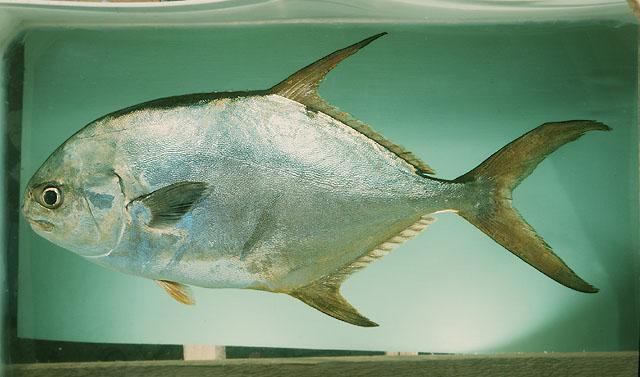Mulut: (9, 195, 75, 261)
Sirip Anal: (338, 206, 438, 282)
Sirip Dada: (110, 168, 226, 247)
Sirip Ekor: (448, 111, 616, 299)
Sirip Perut: (145, 268, 205, 324)
Sirip Punggung: (261, 14, 444, 186)
